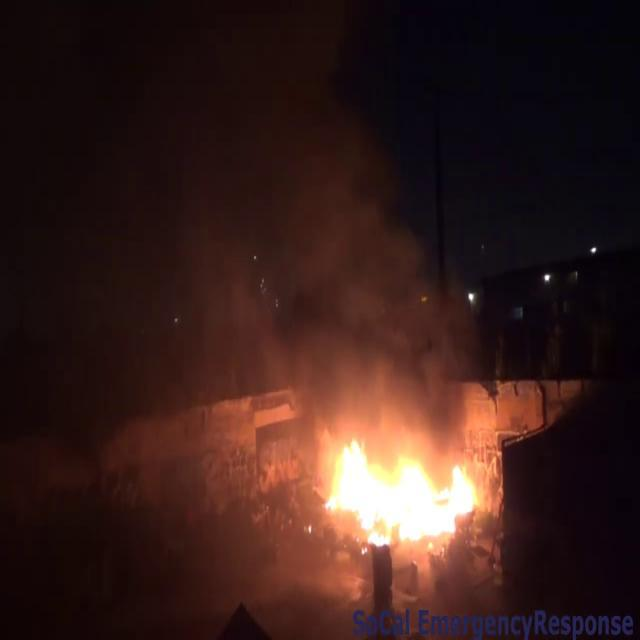Fire: (313, 430, 487, 548)
Smoke: (154, 8, 473, 457)
